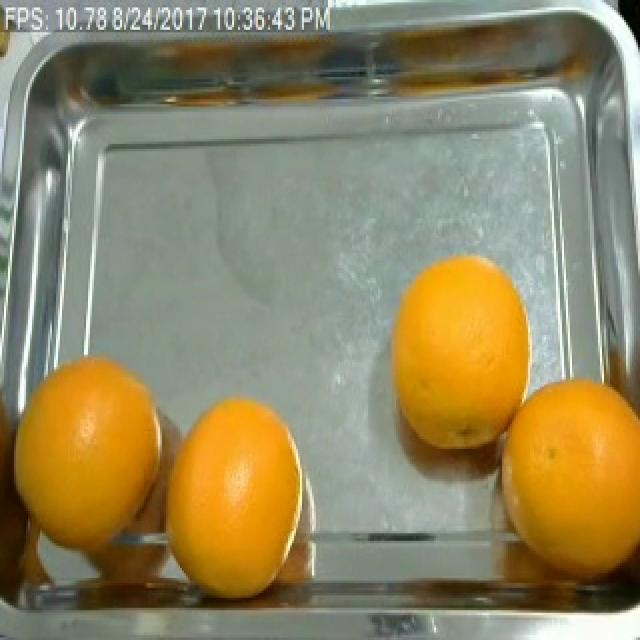Fruit: (376, 241, 542, 434), (600, 0, 640, 67)
